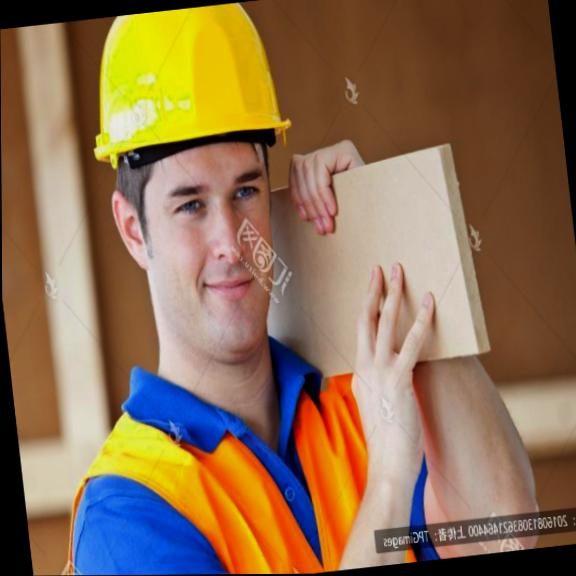safety_vest: (29, 355, 438, 576)
